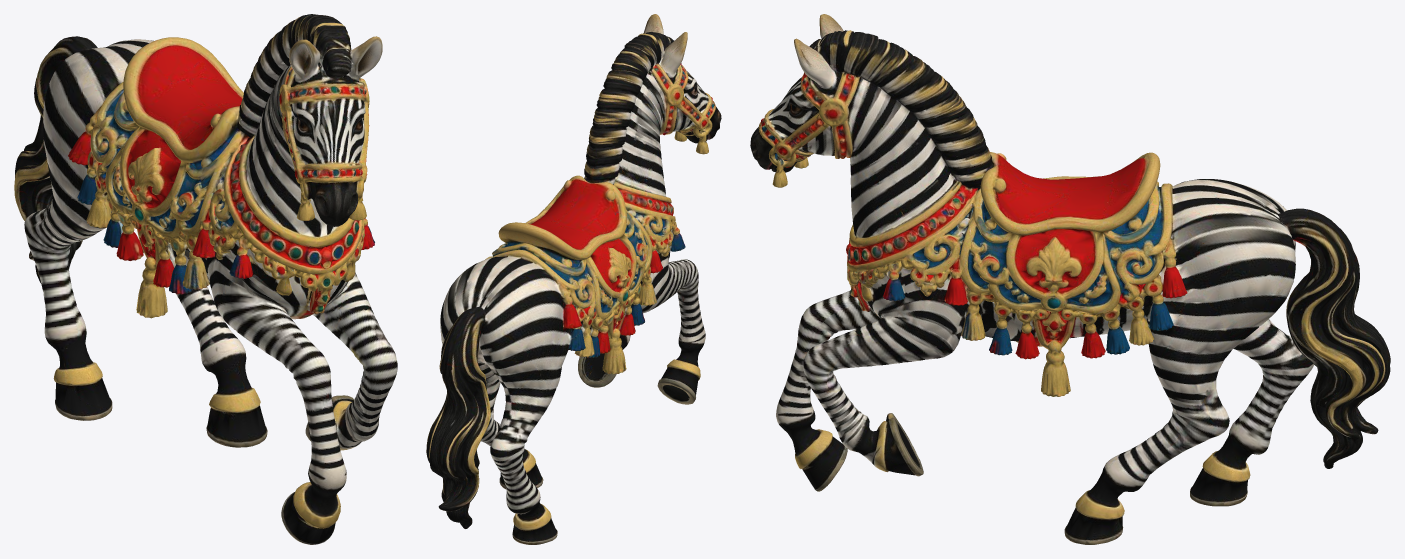
Rendered from zebra.glb.
3 views of the same model, side by side, from view 1: azimuth 30°, elevation 25°; view 2: azimuth 150°, elevation 25°; view 3: azimuth 270°, elevation 25° (orthographic). The views are drawn at different scales.
Size of the model in its own units: 0.5223 by 1.59 by 1.9.
Materials: 1 (1 with a texture image).
